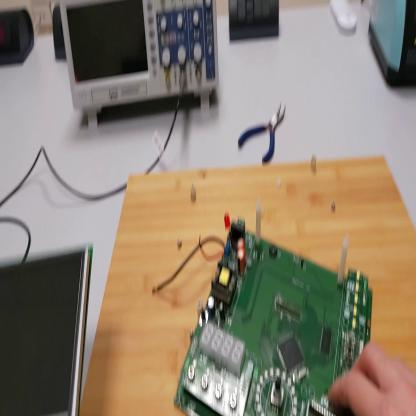hand: (330, 345, 416, 416)
low voltage board: (152, 192, 374, 416)
oscilloscope: (61, 1, 222, 129)
pliers: (238, 106, 287, 166)
socket: (1, 10, 35, 68), (54, 7, 67, 62)
welder station: (368, 3, 415, 87)
working area: (80, 161, 415, 414)
